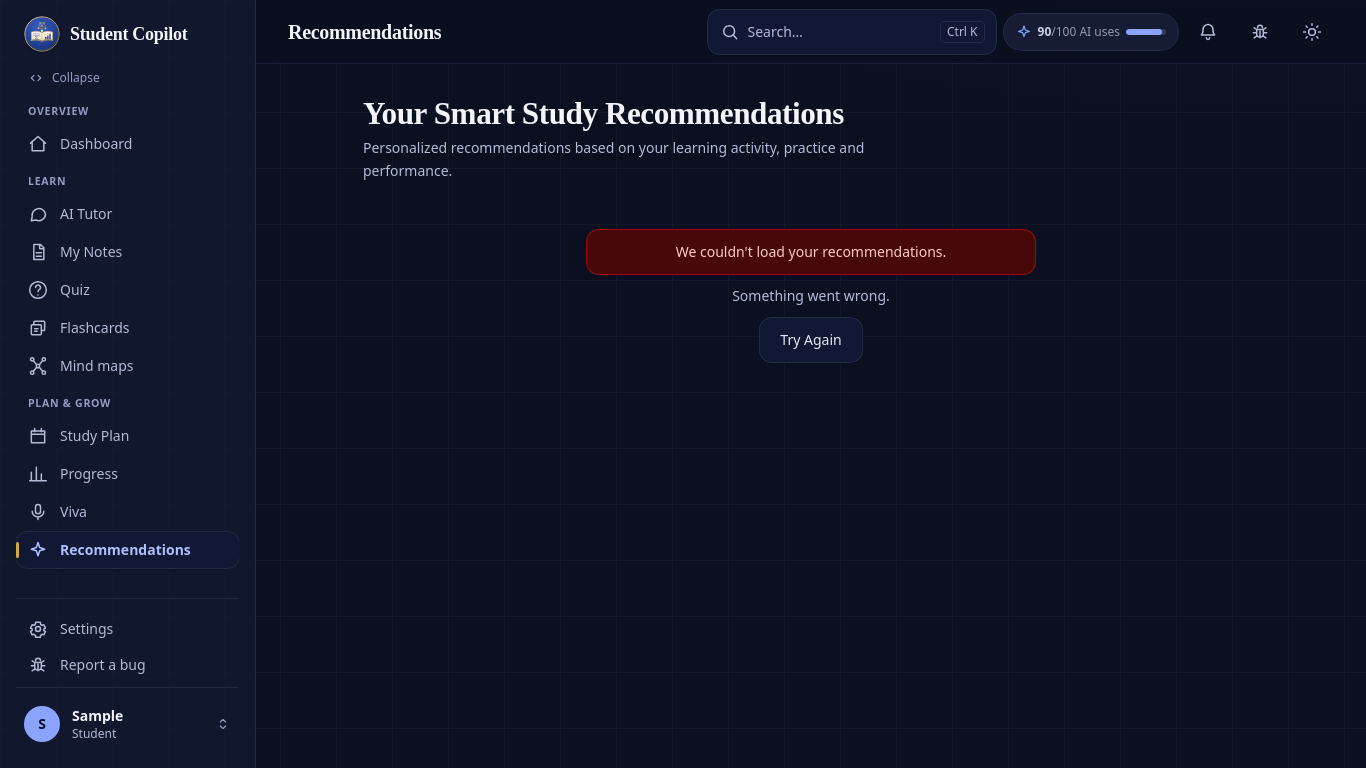
Test: access and loading › shows a clear error with Try Again, and recovers
The width and height of the screenshot is (1366, 768).
Check: the text "We couldn't load your recommendations." is shown, box [587,230,1035,274]
Step 1. Click the button "Try Again" → (811, 340), box [760,318,862,362]
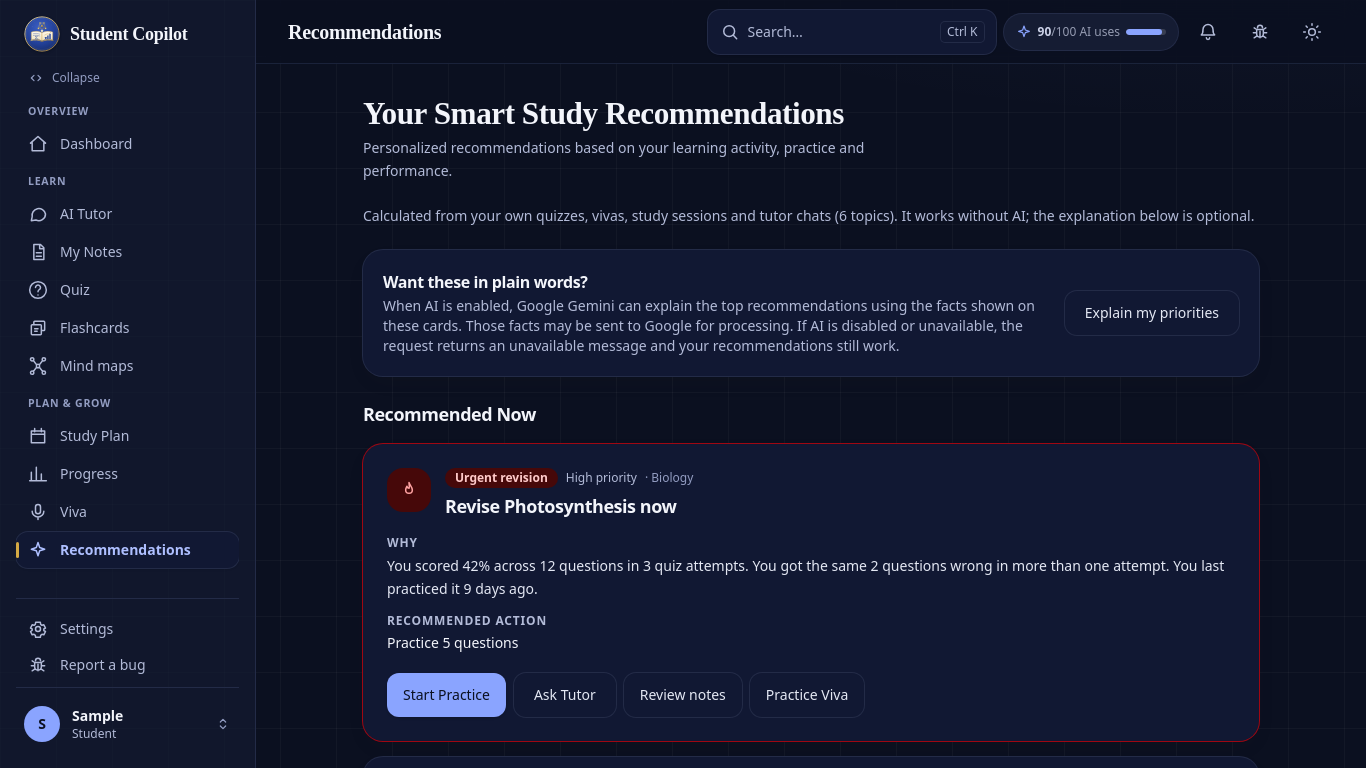
Check: the heading "Recommended Now" is shown, box [363,402,536,426]
